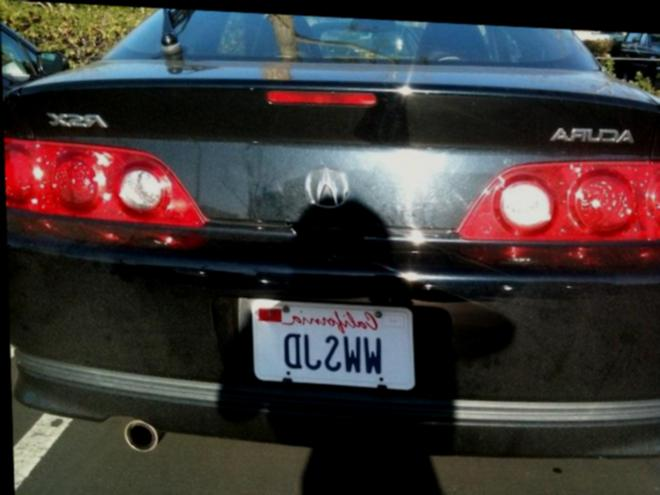License_Plate: (233, 285, 431, 403)
